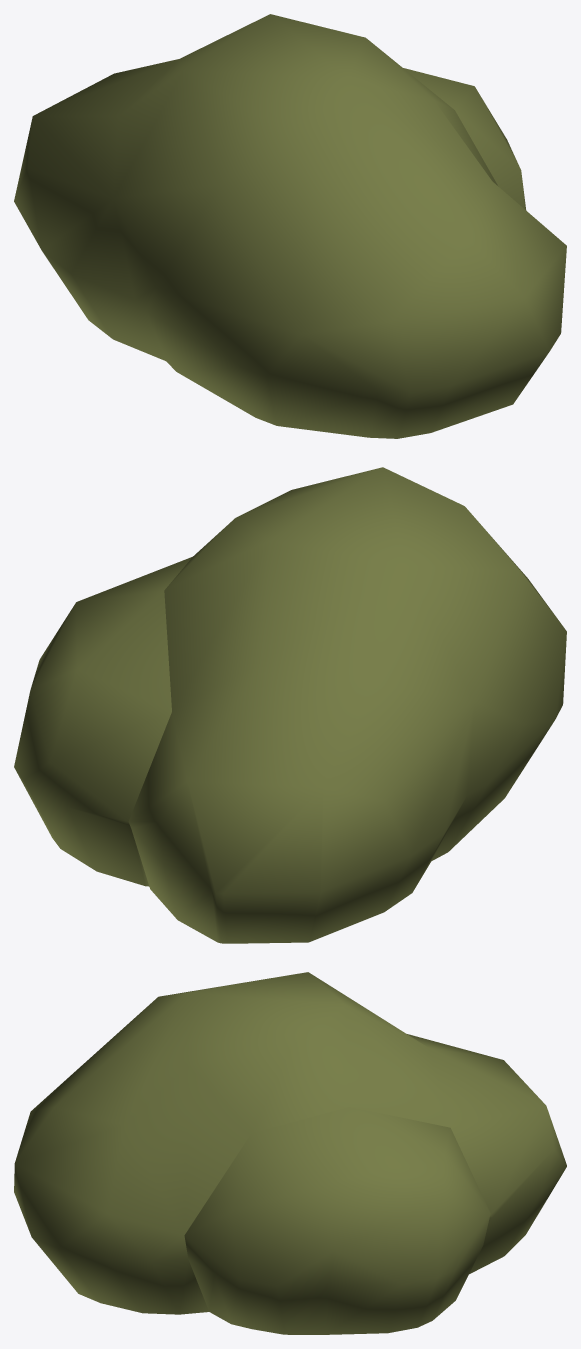
File: Bush1.fbx
3 renders of one model, top to bottom at view 1: azimuth 30°, elevation 25°; view 2: azimuth 150°, elevation 25°; view 3: azimuth 270°, elevation 25°, orthographic. The views are drawn at different scales.
Parts seen in each view (by area): view 1: Bush1; view 2: Bush1; view 3: Bush1.
Part boxes in pixels (box(x1,y1,x2,y2)): Bush1: box(14, 14, 566, 438); Bush1: box(14, 467, 566, 943); Bush1: box(14, 972, 566, 1334).
Bounding box in the file's own units: 341 × 239 × 464.
